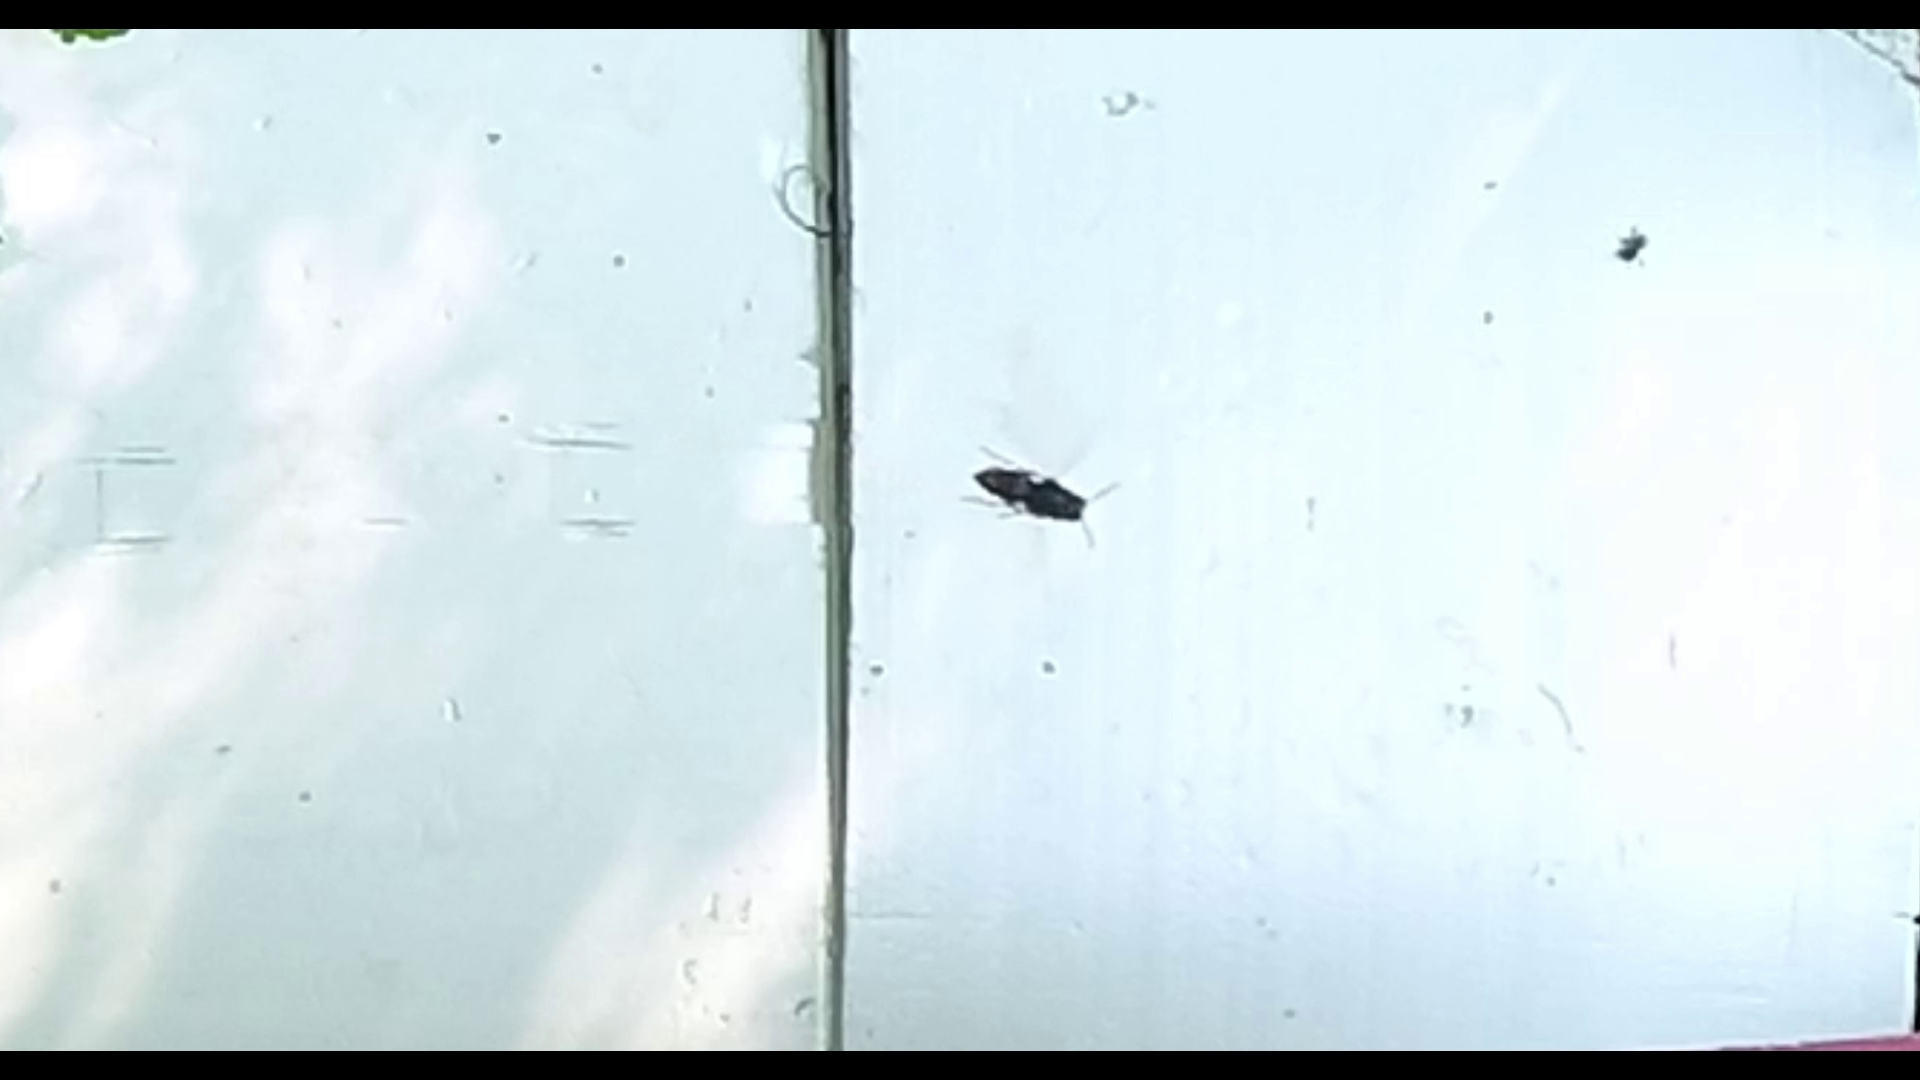Asian_hornets: (952, 421, 1134, 560)
